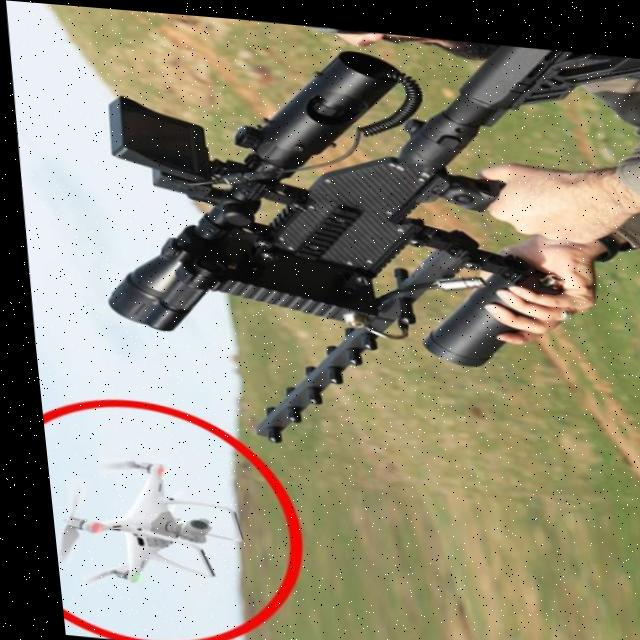drones: (35, 426, 277, 614)
